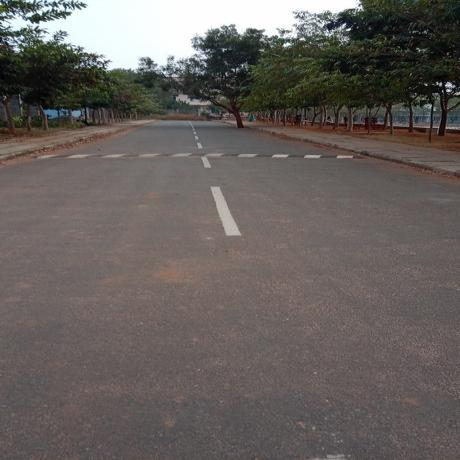Speed Bump: (37, 151, 358, 160)
